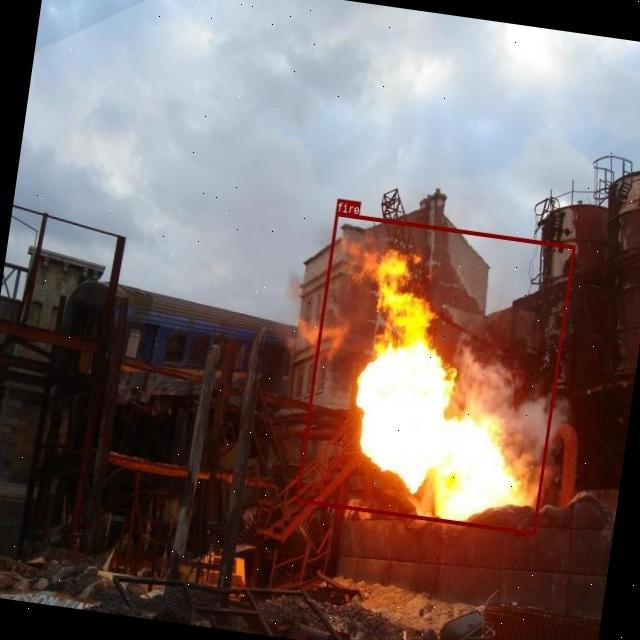fire: (296, 212, 574, 535)
